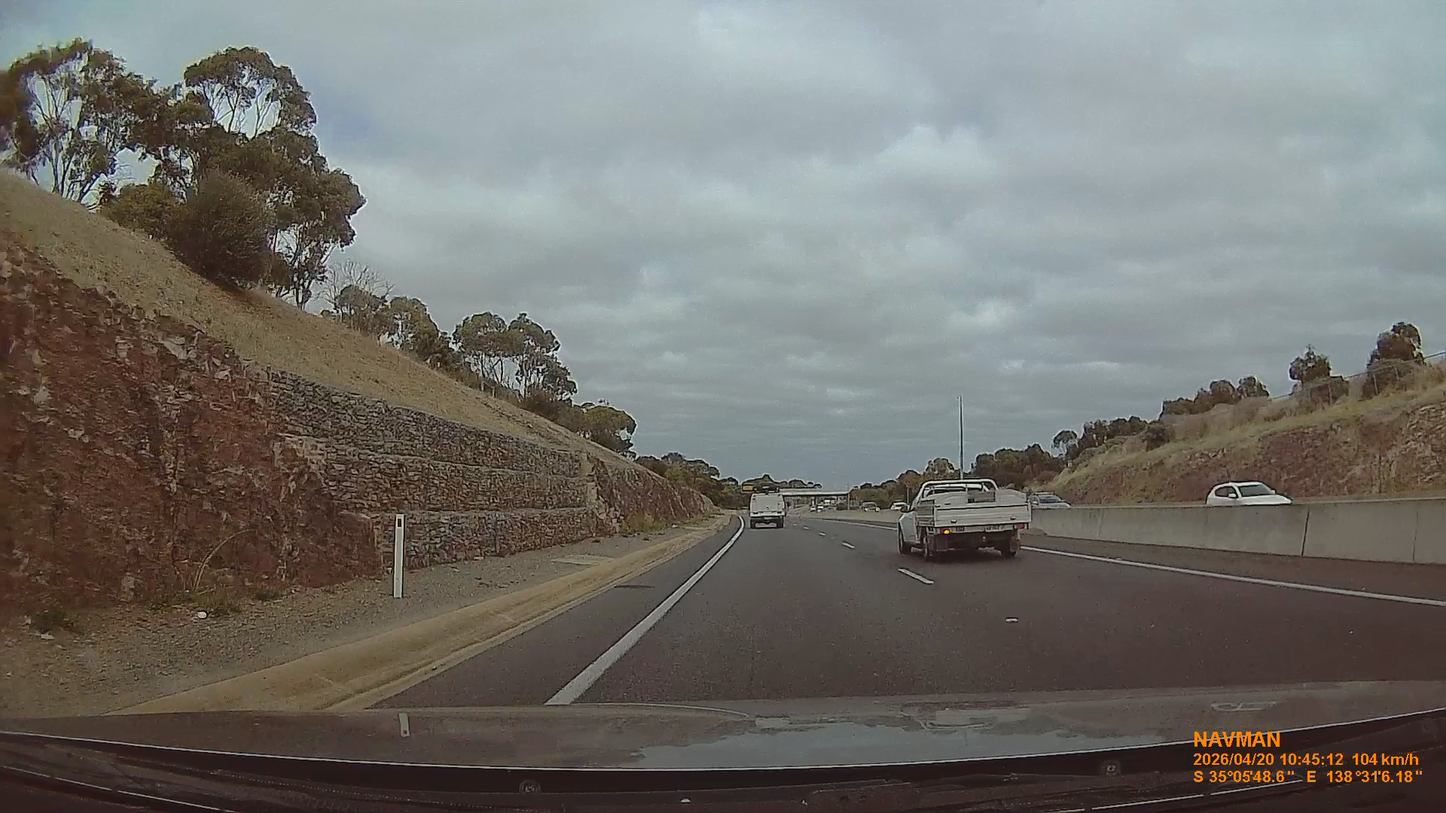road barriers: (1029, 497, 1445, 566)
